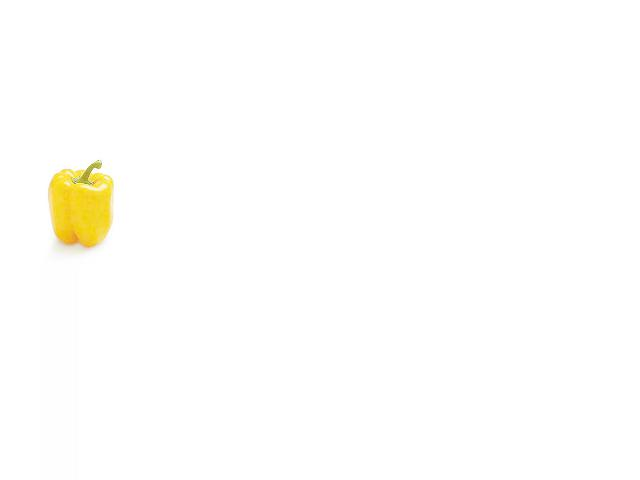bell_pepper: (47, 156, 122, 248)
